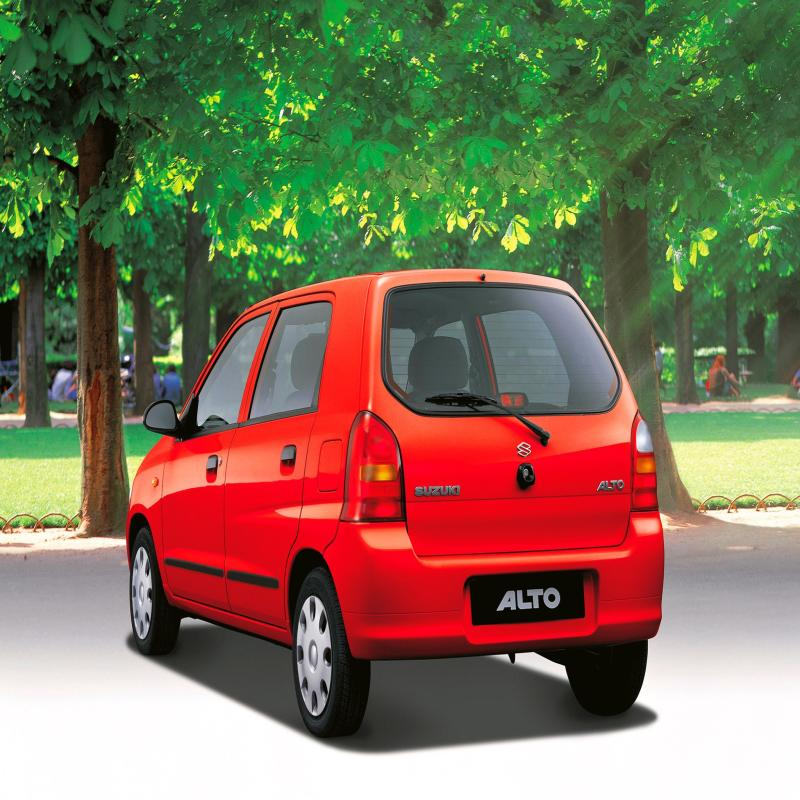car: (125, 254, 665, 691)
